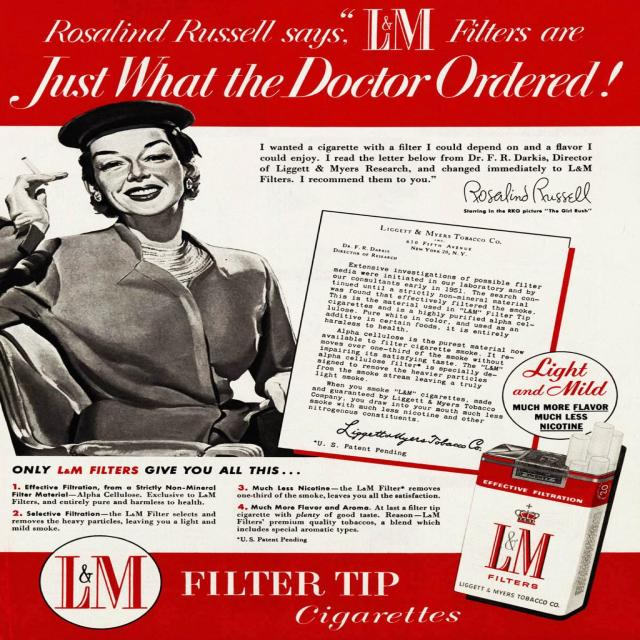smoking: (8, 113, 214, 232)
